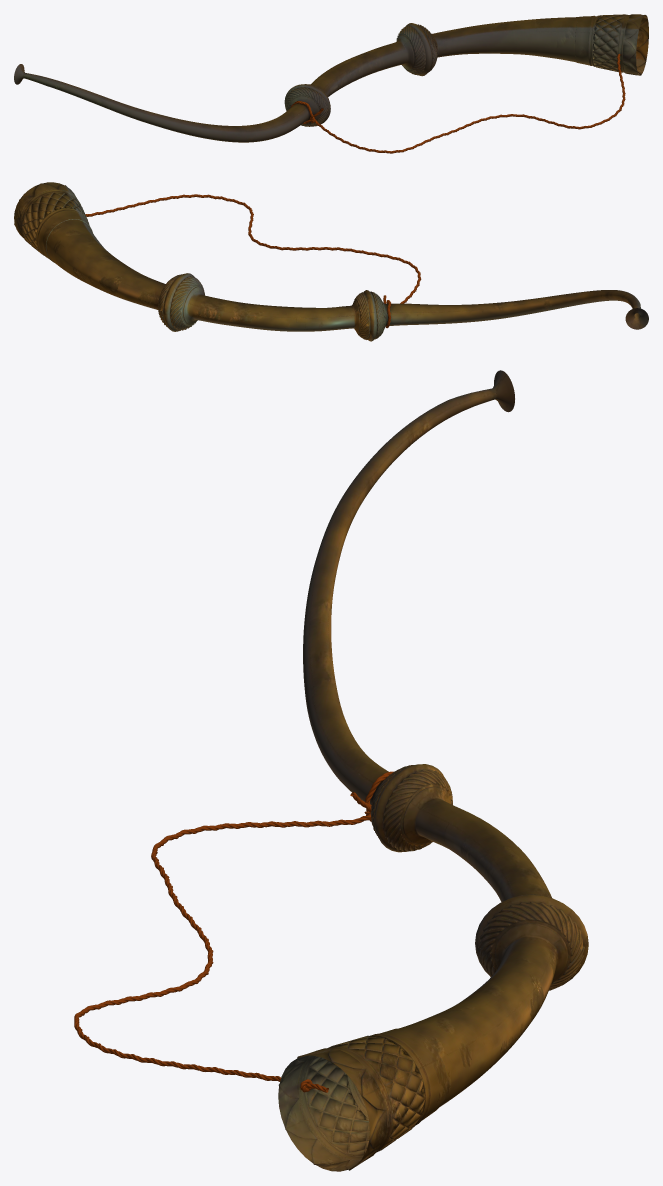
Rendered from KOTA_Kob.glb.
The picture shows the model from 3 angles, top to bottom: view 1: azimuth 30°, elevation 25°; view 2: azimuth 150°, elevation 25°; view 3: azimuth 270°, elevation 25°; orthographic projection. The views are drawn at different scales.
Parts seen in each view (by area): view 1: trumpet, Circle.002; view 2: trumpet, Circle.002; view 3: trumpet, Circle.002.
Boxes of the visible parts, left/top/right/bottom form: trumpet: left=14, top=14, right=648, bottom=142; Circle.002: left=290, top=53, right=625, bottom=153; trumpet: left=14, top=182, right=648, bottom=341; Circle.002: left=85, top=194, right=421, bottom=328; trumpet: left=278, top=370, right=588, bottom=1171; Circle.002: left=74, top=771, right=393, bottom=1092.
Size of the model in its own units: 1.02 by 0.1879 by 0.3765.
Materials: 2 (2 with a texture image).
